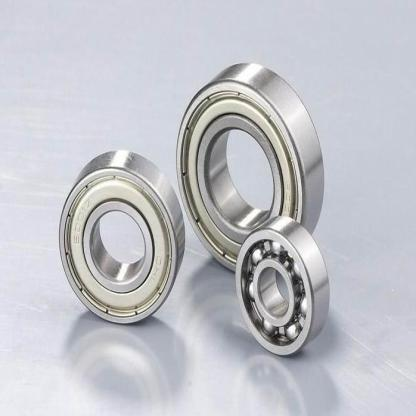FOD: (172, 57, 327, 277), (56, 149, 186, 328), (232, 210, 334, 357)
